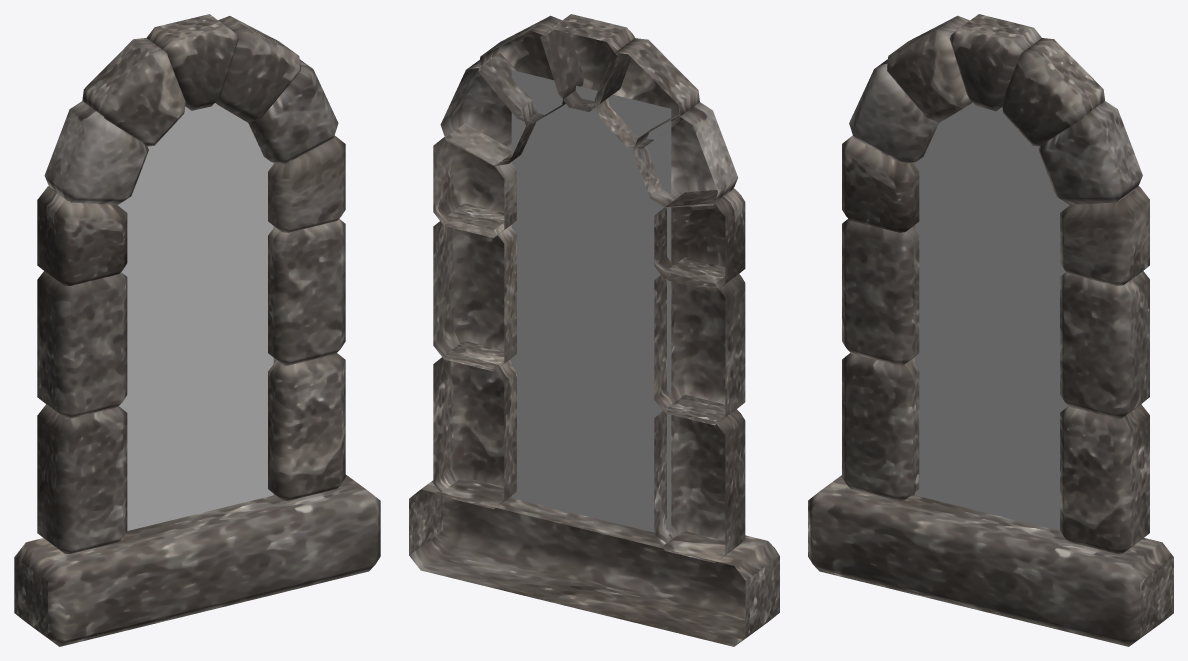
Rendered from WindowF.fbx.
The picture shows the model from 3 angles, left to right: view 1: azimuth 30°, elevation 25°; view 2: azimuth 150°, elevation 25°; view 3: azimuth 330°, elevation 25°; orthographic projection.
Visible parts, largest first — view 1: Mesh; view 2: Mesh; view 3: Mesh.
Part boxes in pixels (left/top/right/bottom): Mesh: left=14, top=14, right=380, bottom=646; Mesh: left=409, top=14, right=779, bottom=646; Mesh: left=808, top=14, right=1173, bottom=646.
Bounding box in the file's own units: 97.49 × 158 × 20.45.
